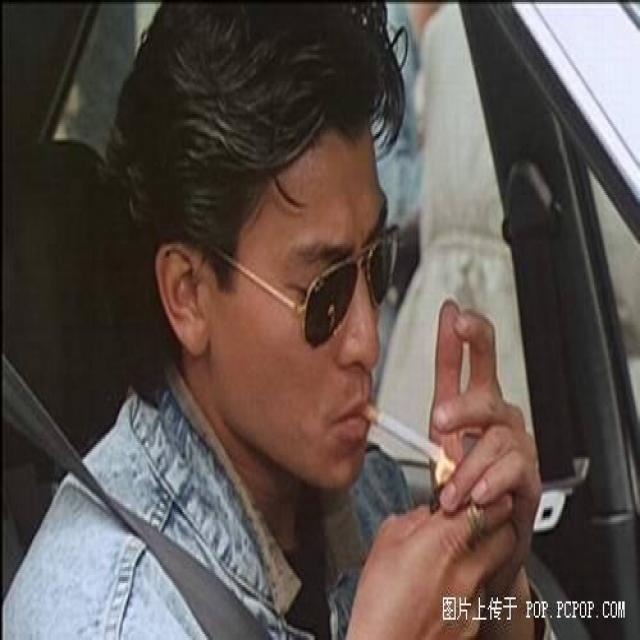smoke: (362, 392, 445, 467)
